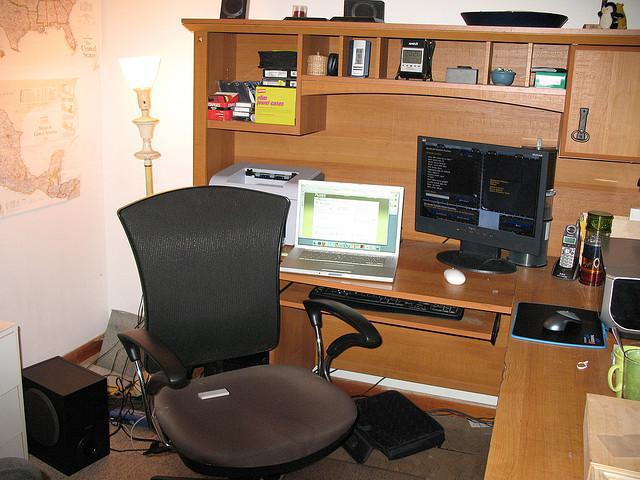tv: (425, 142, 537, 257), (288, 179, 403, 282)
